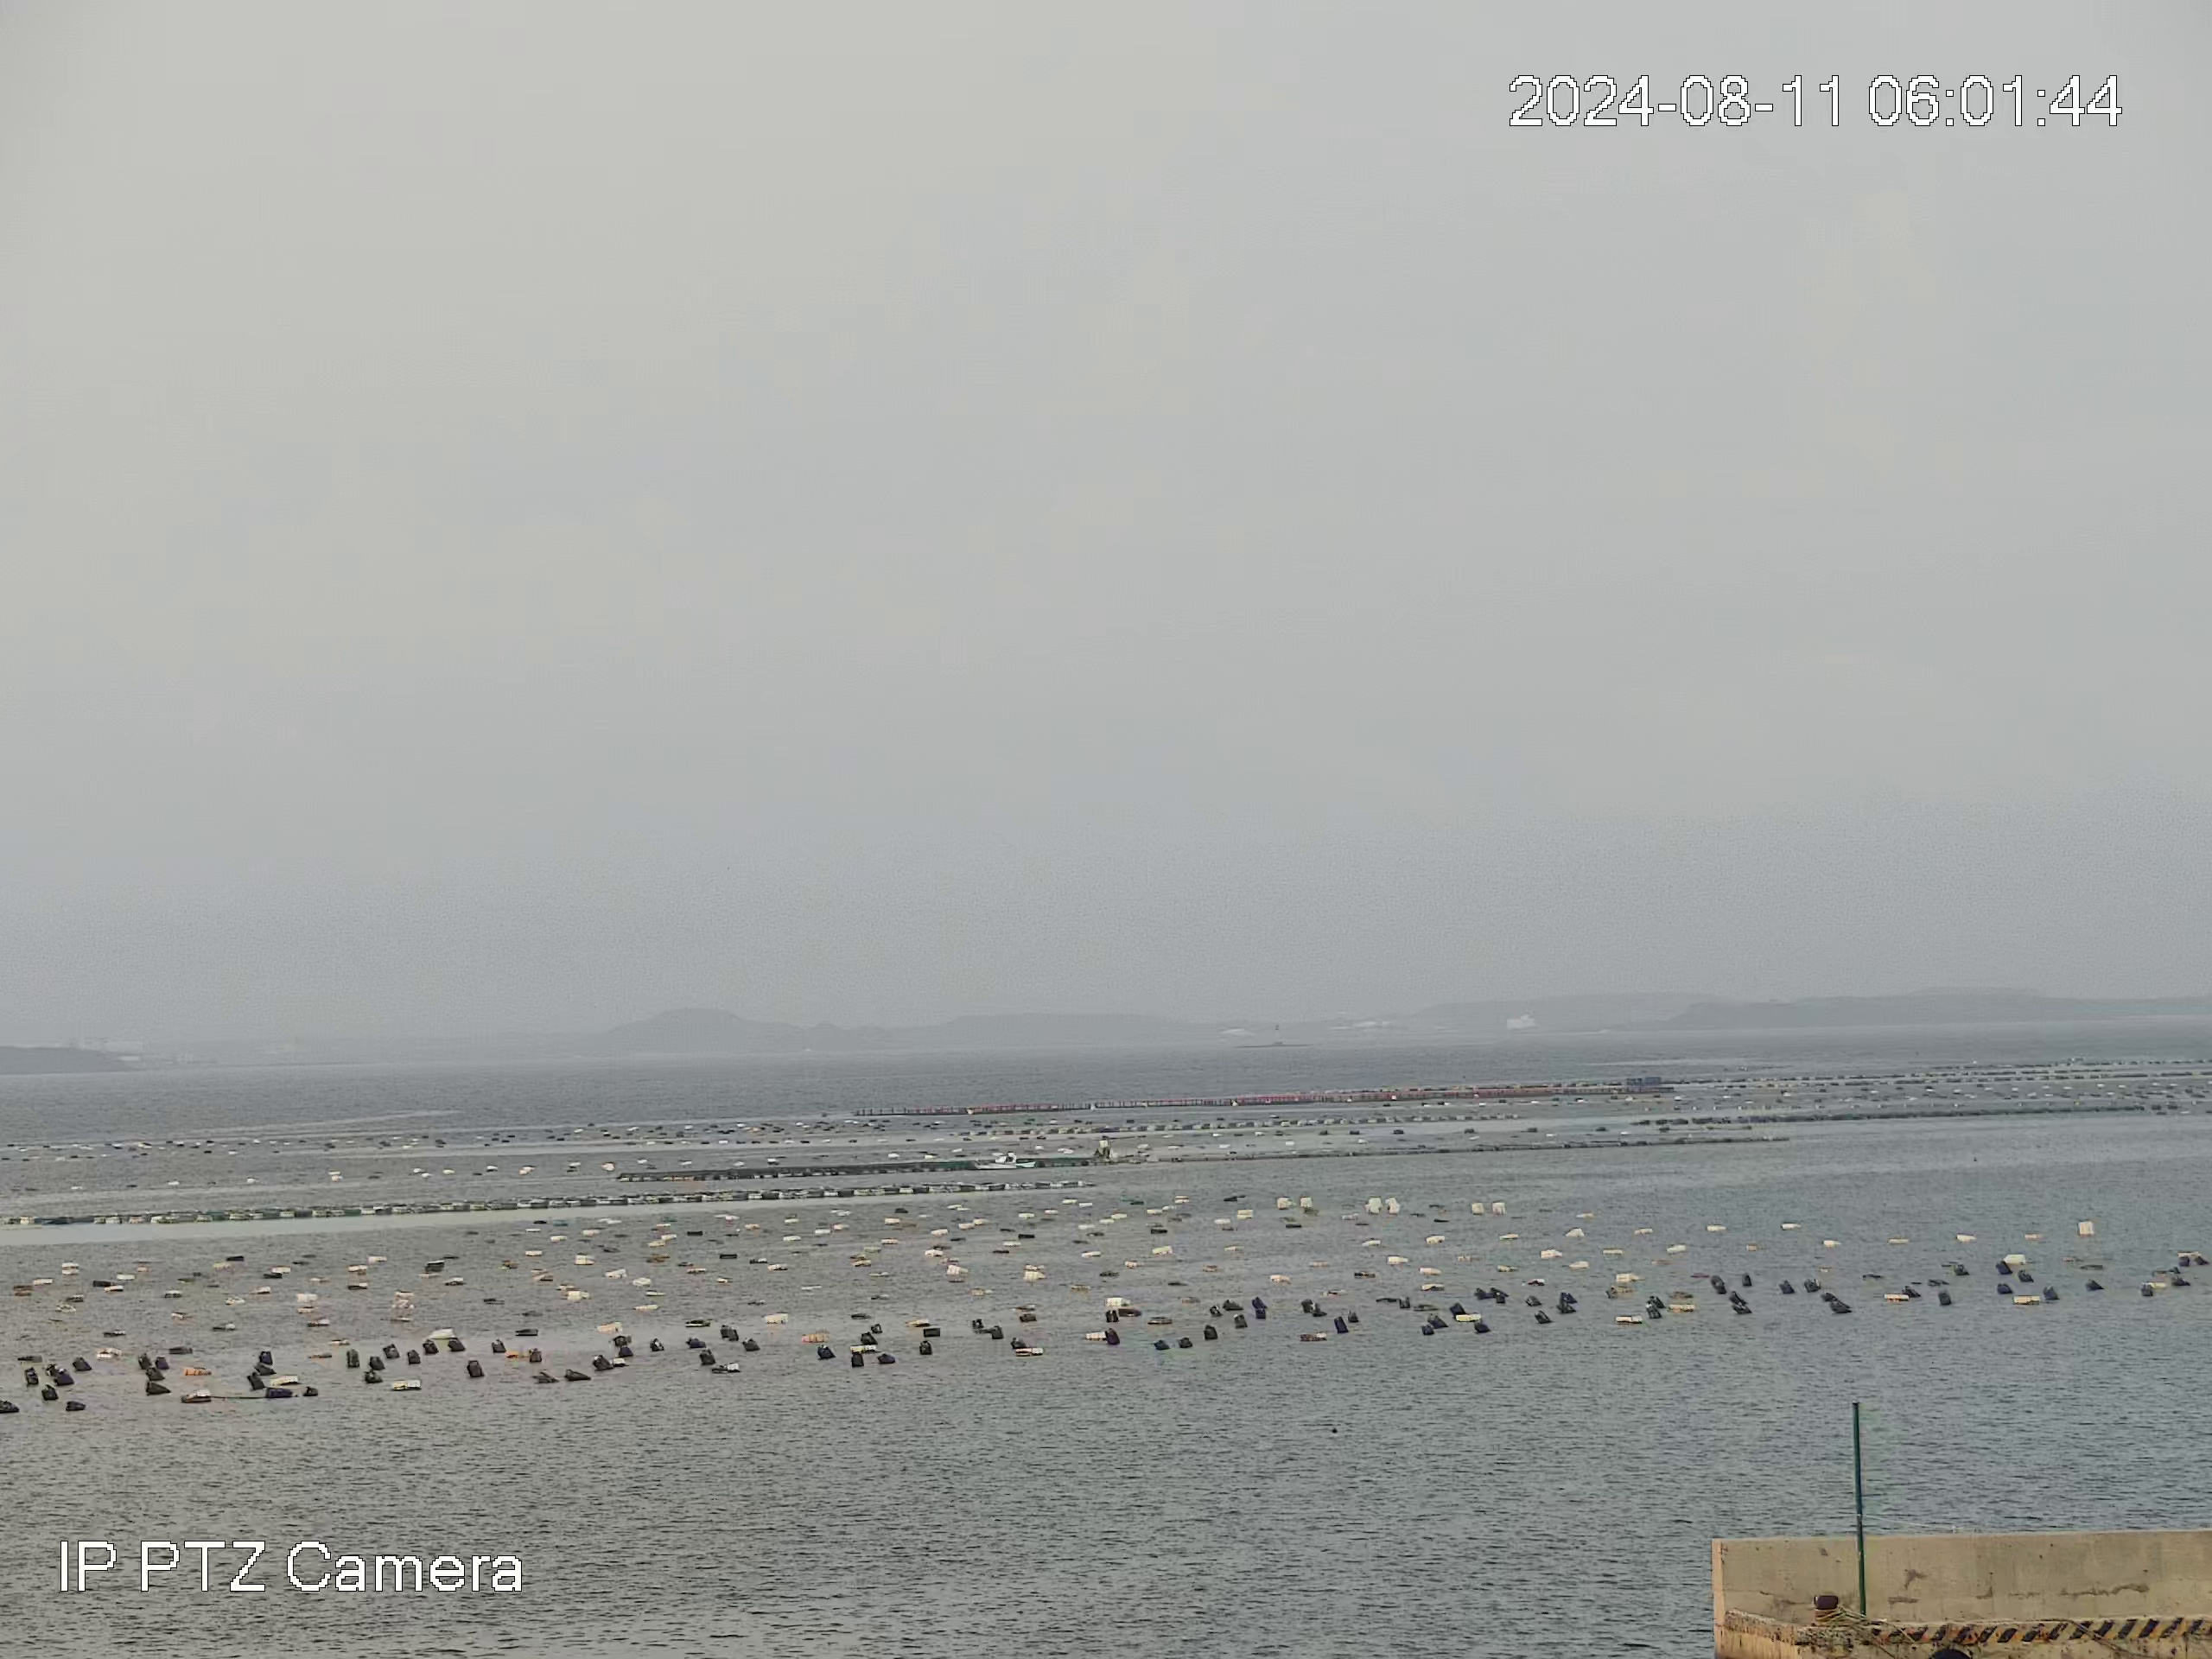boat: (972, 1148, 1038, 1171)
